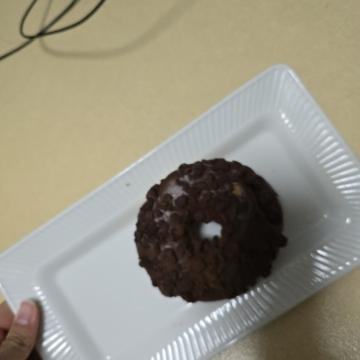doughnut: (144, 66, 317, 232)
